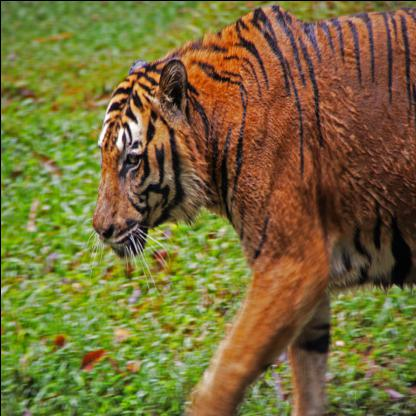tiger: (83, 57, 204, 292)
